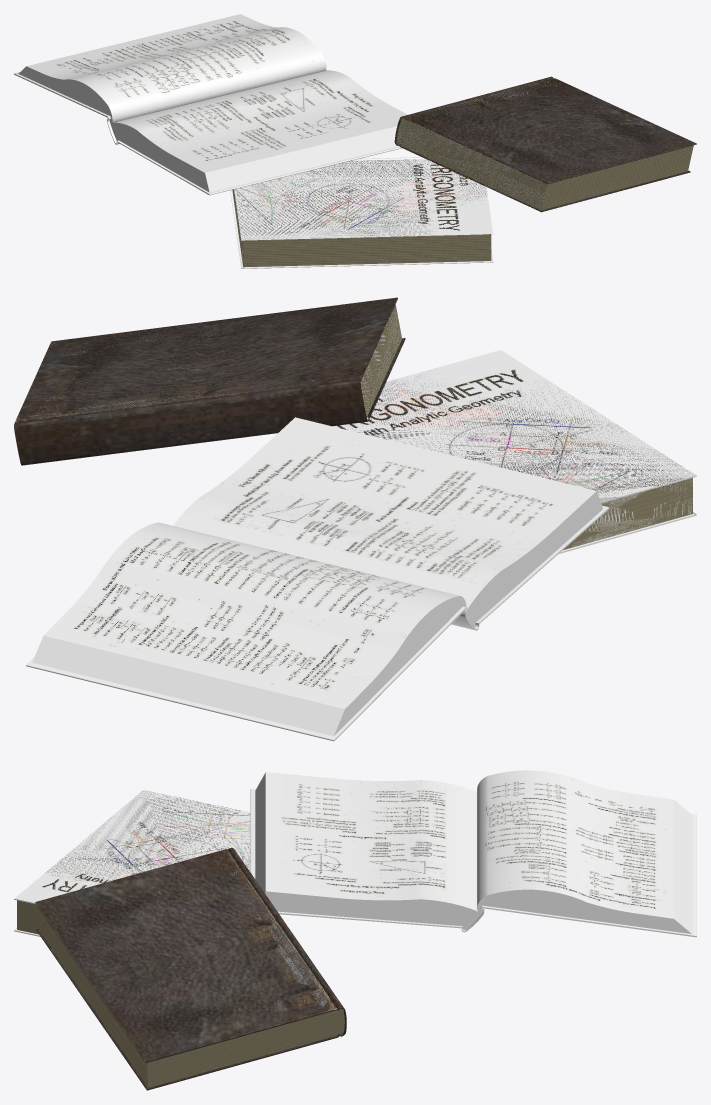
3 views of the same model, one above another, from view 1: azimuth 30°, elevation 25°; view 2: azimuth 150°, elevation 25°; view 3: azimuth 270°, elevation 25° (orthographic). The views are drawn at different scales.
Visible parts, largest first — view 1: group_2 (×3), group_0 (×4), group_1 (×3), image_0; view 2: group_2 (×3), group_0 (×3), group_1 (×2), image_0; view 3: group_2 (×3), group_0 (×4), group_1 (×2), image_0.
Part boxes in pixels (left/top/right/bottom): group_2 (×3): left=14, top=14, right=407, bottom=195; group_0 (×4): left=394, top=76, right=696, bottom=212; group_1 (×3): left=230, top=159, right=493, bottom=268; image_0: left=407, top=79, right=695, bottom=183; group_2 (×3): left=26, top=417, right=609, bottom=741; group_0 (×3): left=14, top=297, right=405, bottom=465; group_1 (×2): left=333, top=350, right=696, bottom=549; image_0: left=15, top=297, right=395, bottom=421; group_2 (×3): left=250, top=770, right=696, bottom=937; group_0 (×4): left=35, top=847, right=346, bottom=1090; group_1 (×2): left=14, top=790, right=250, bottom=934; image_0: left=35, top=849, right=336, bottom=1061.
Size of the model in its own units: 25.09 by 28.43 by 4.74.
9 materials, 7 textured.
